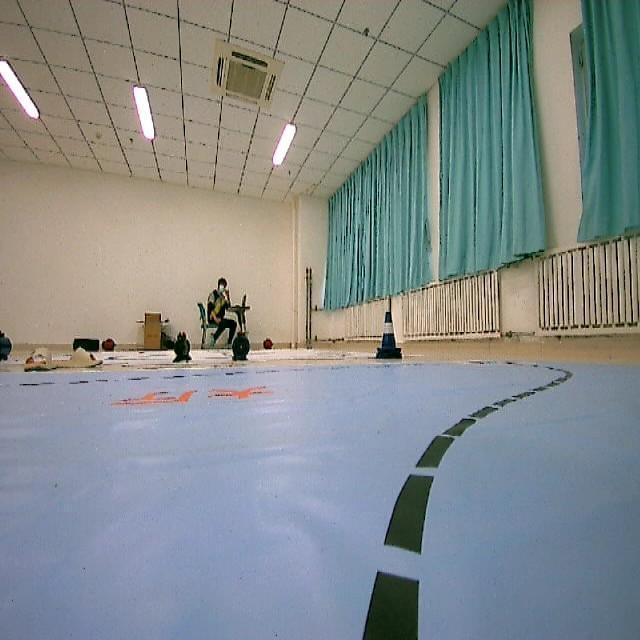obstacle: (361, 308, 406, 362)
